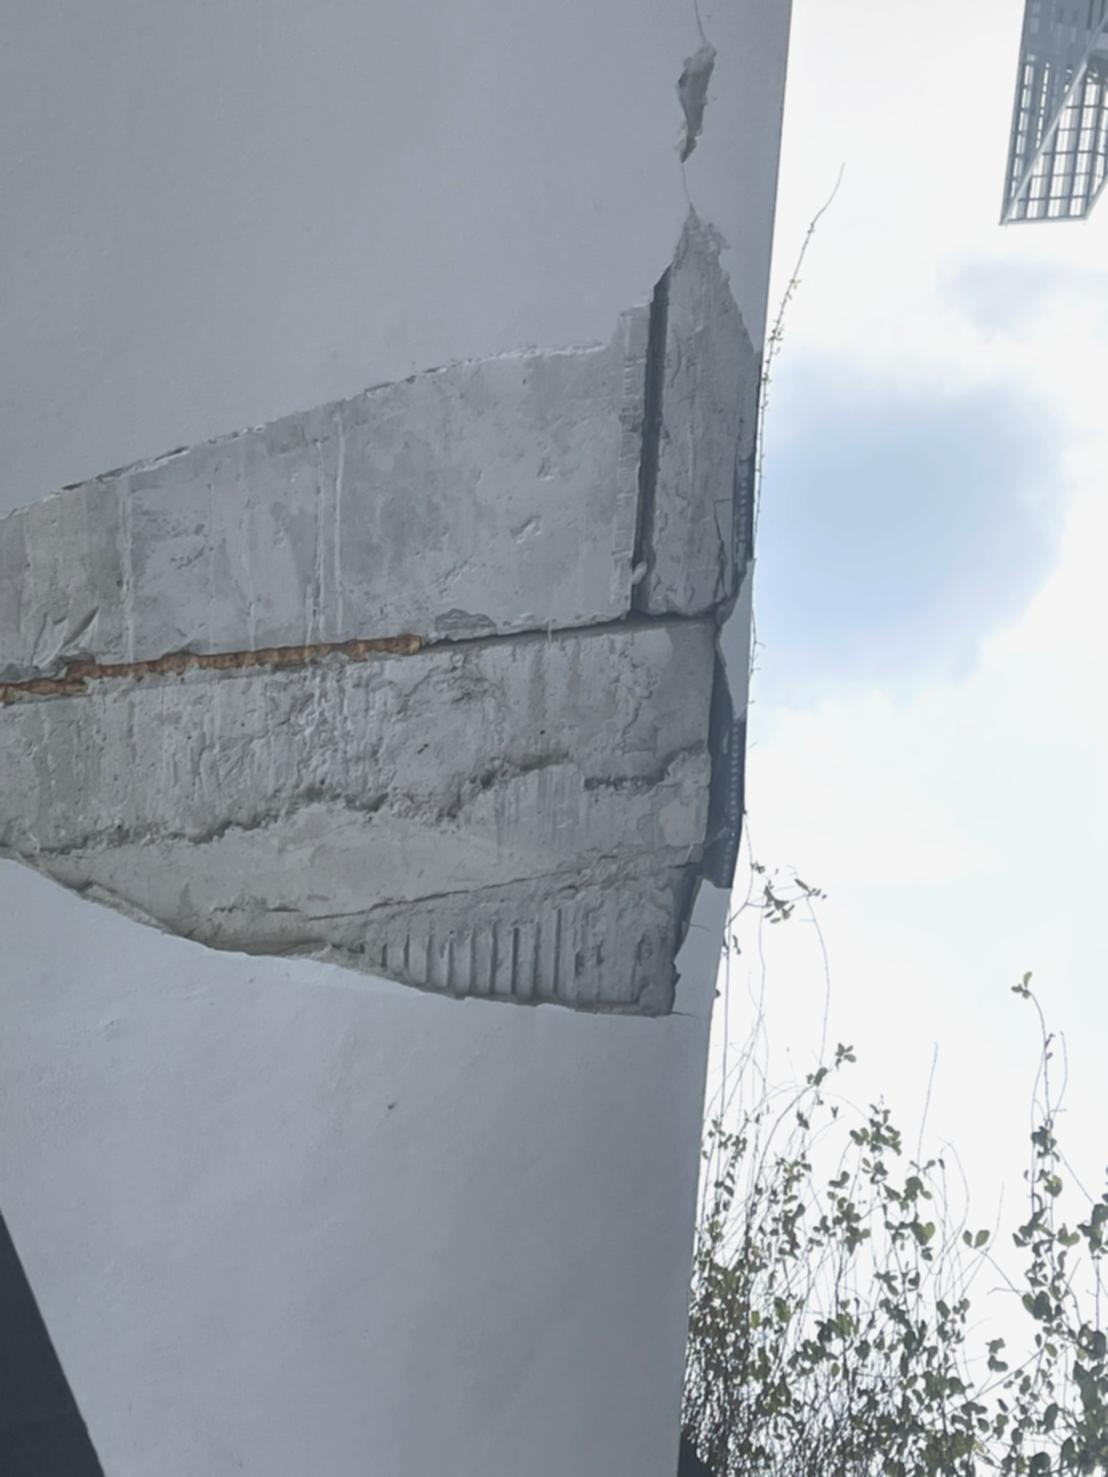High: (1, 1, 769, 1091)
